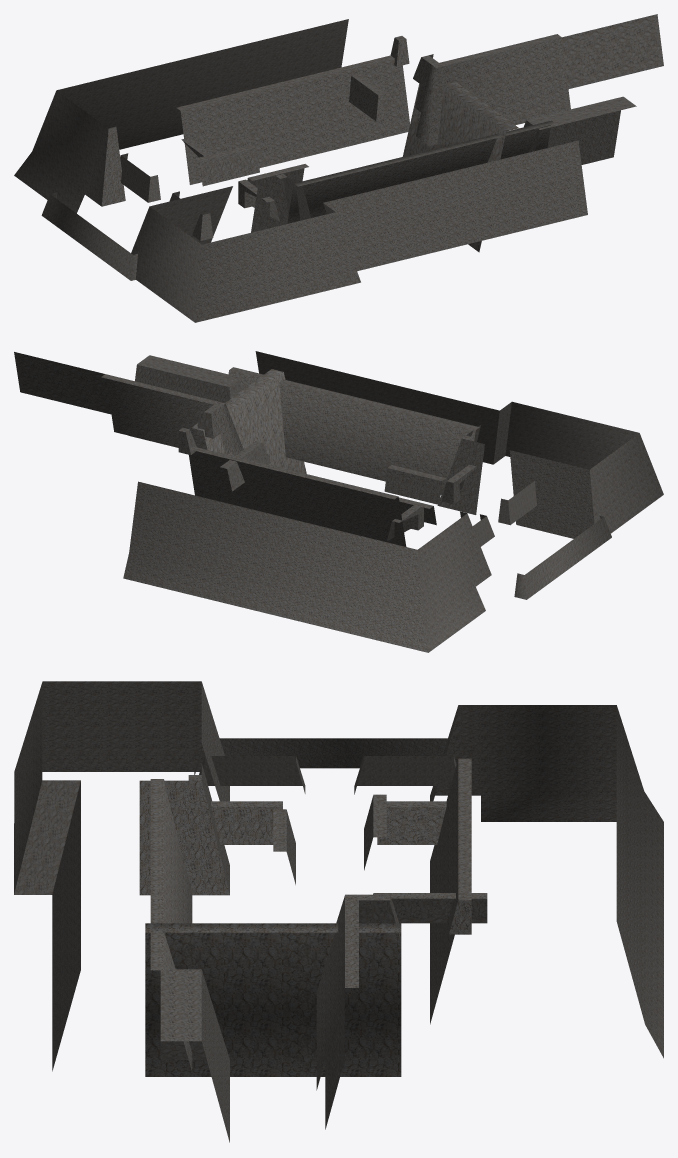
File: Walls.fbx
The picture shows the model from 3 angles, top to bottom: view 1: azimuth 30°, elevation 25°; view 2: azimuth 150°, elevation 25°; view 3: azimuth 270°, elevation 25°; orthographic projection. The views are drawn at different scales.
Visible parts, largest first — view 1: Walls; view 2: Walls; view 3: Walls.
Boxes of the visible parts, <box> form: Walls: <box>14,14,663,322</box>; Walls: <box>14,351,663,652</box>; Walls: <box>14,681,663,1142</box>.
Bounding box in the file's own units: 10624 × 2307 × 6830.
